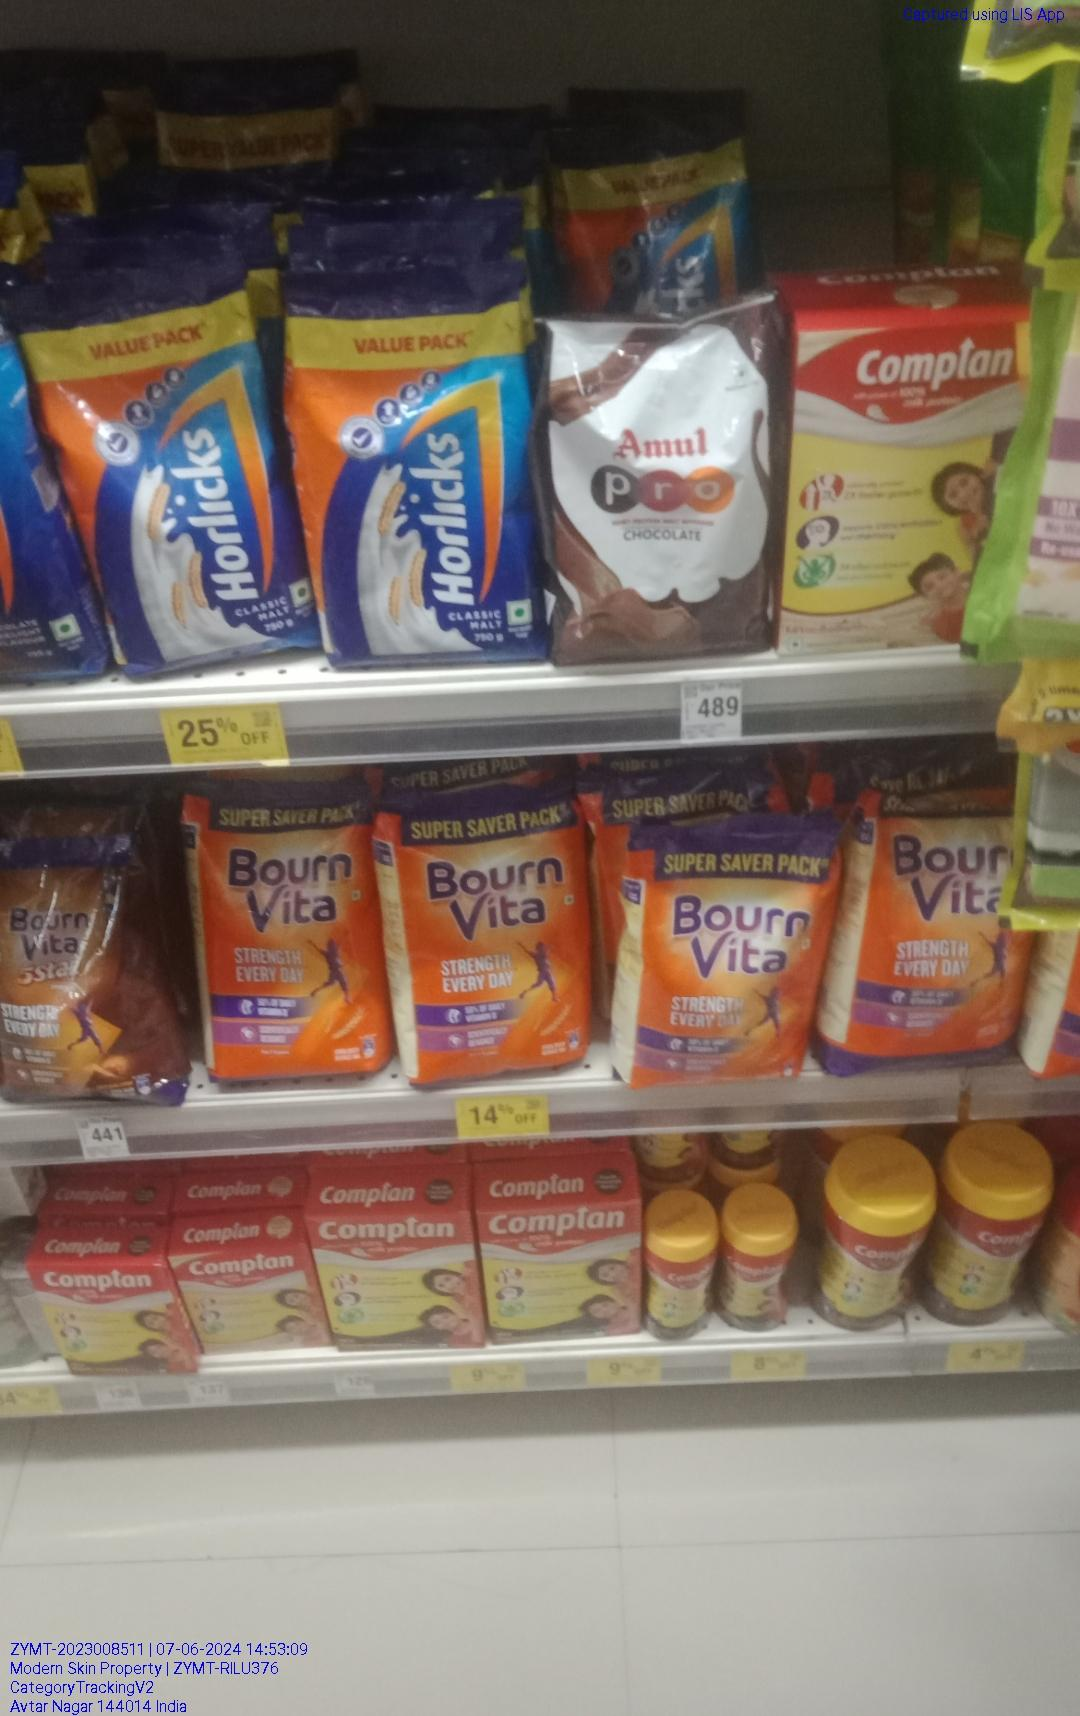BOURN_VITA_1_KG_POUCH: (190, 780, 362, 1084), (388, 800, 574, 1080), (835, 796, 1019, 1071), (623, 819, 809, 1089)
BOURN_VITA_FIVE_STAR_MAGIC_750_G_POUCH: (0, 842, 173, 1116)
COMPLAN_CHOCOLATE_200_GMS_JAR: (647, 1218, 710, 1344), (723, 1208, 789, 1328)
COMPLAN_CHOCOLATE_500_GMS_JAR: (937, 1134, 1029, 1328), (821, 1154, 917, 1328)
COMPLAN_CHOCOLATE_500_GMS_PACK: (321, 1216, 475, 1349), (488, 1198, 636, 1335)
COMPLAN_KESAR_BADAM_500_GMS_PACK: (783, 320, 961, 658), (189, 1242, 309, 1355)
